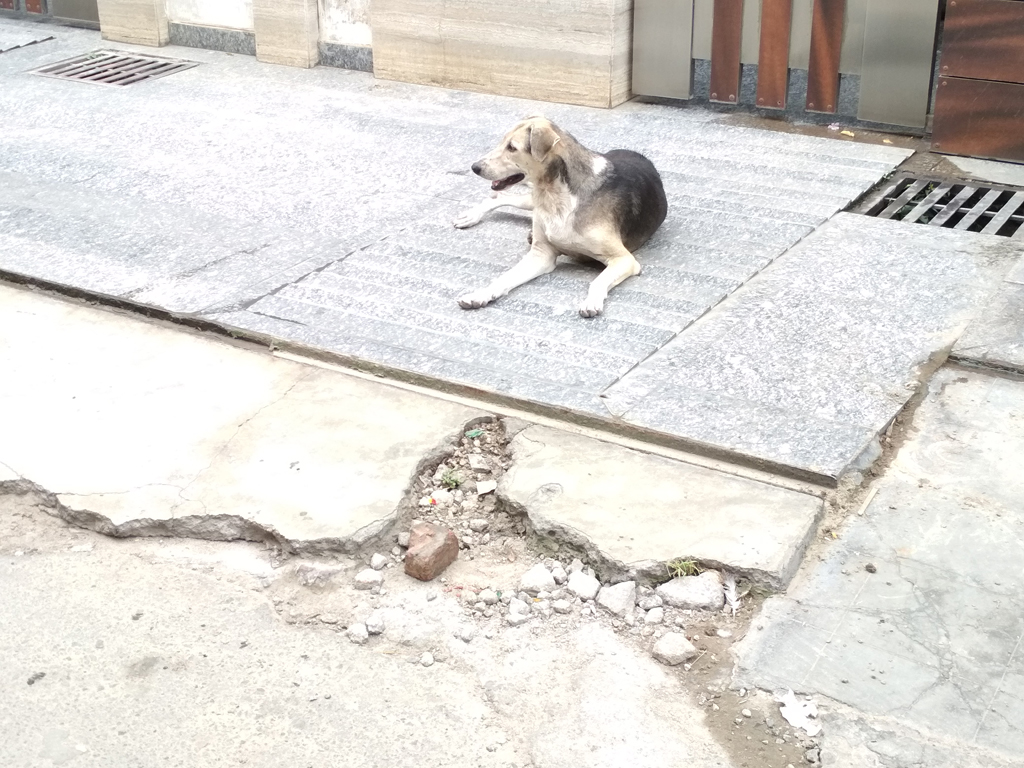dog: (451, 112, 668, 317)
